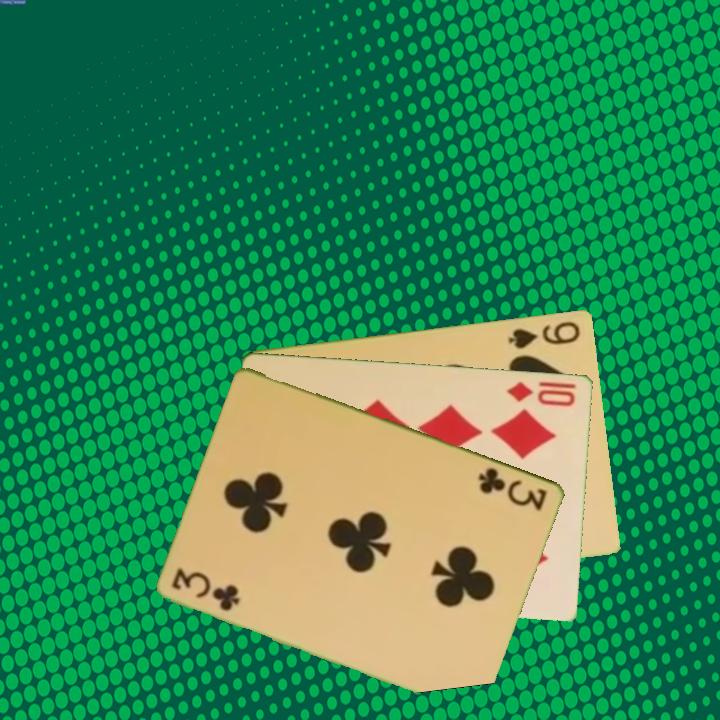10d: (503, 377, 579, 409)
3c: (475, 463, 551, 514), (169, 564, 244, 614)
9s: (505, 317, 583, 351)
